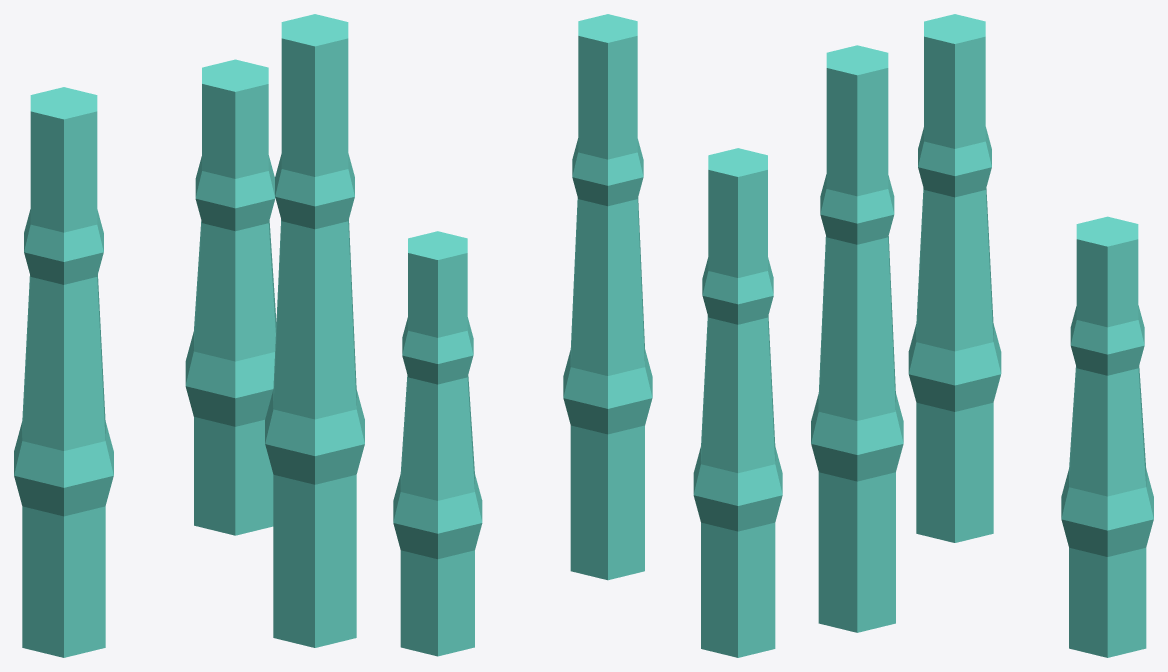
3 views of the same model, side by side, from view 1: azimuth 30°, elevation 25°; view 2: azimuth 150°, elevation 25°; view 3: azimuth 270°, elevation 25° (orthographic). The views are drawn at different scales.
Visible parts, largest first — view 1: crops_bambooStageA; view 2: crops_bambooStageA; view 3: crops_bambooStageA.
Boxes of the visible parts, left/top/right/bottom form: crops_bambooStageA: left=14, top=14, right=364, bottom=657; crops_bambooStageA: left=393, top=14, right=782, bottom=657; crops_bambooStageA: left=811, top=14, right=1153, bottom=657.
Size of the model in its own units: 0.3401 by 0.549 by 0.308.
